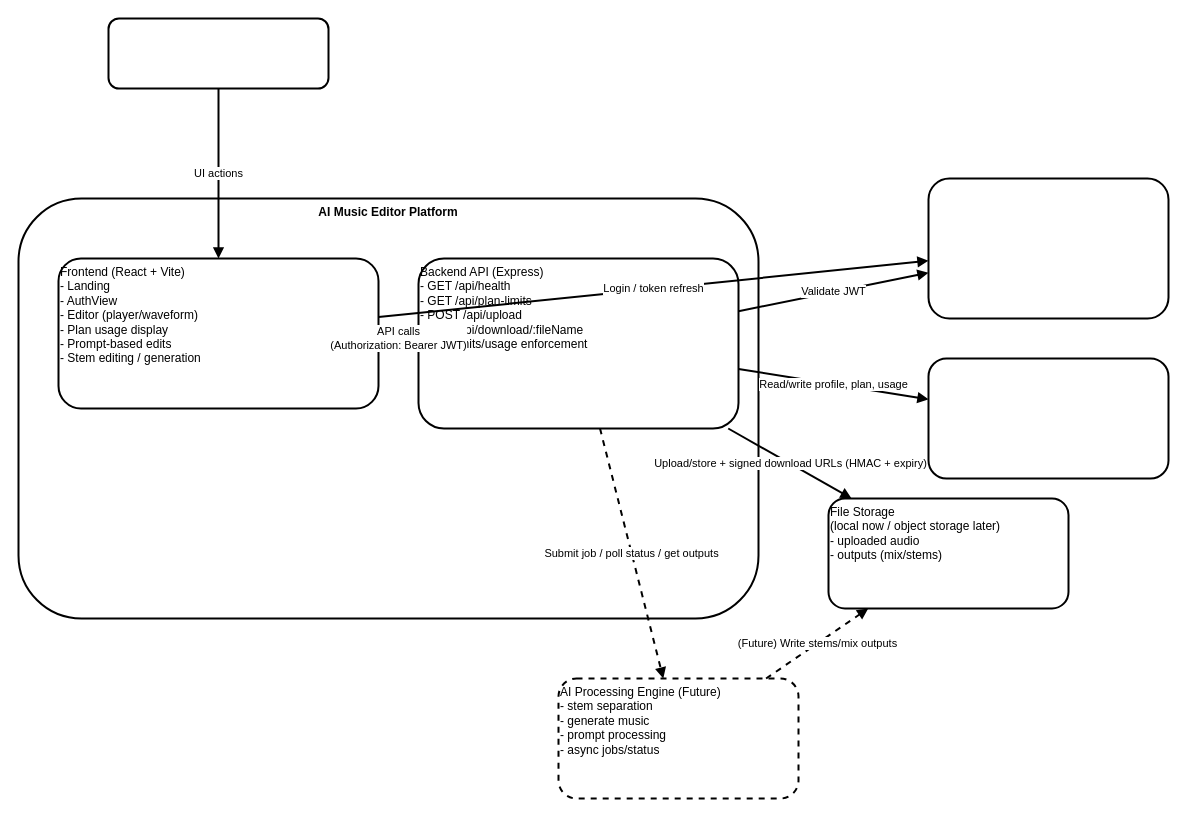
Image size: 1186x816. Some labels were removed from this diagram. Here are the shapes that lost their labels. From the top down, the centre of each, then its label:
At (x=218, y=53): "User (Browser / Mobile Web)".
At (x=1048, y=248): "Supabase Auth - Google OAuth - email/password - magic links - JWT session".
At (x=1048, y=418): "Supabase Database - profiles - plan & limits - renders/month usage".
